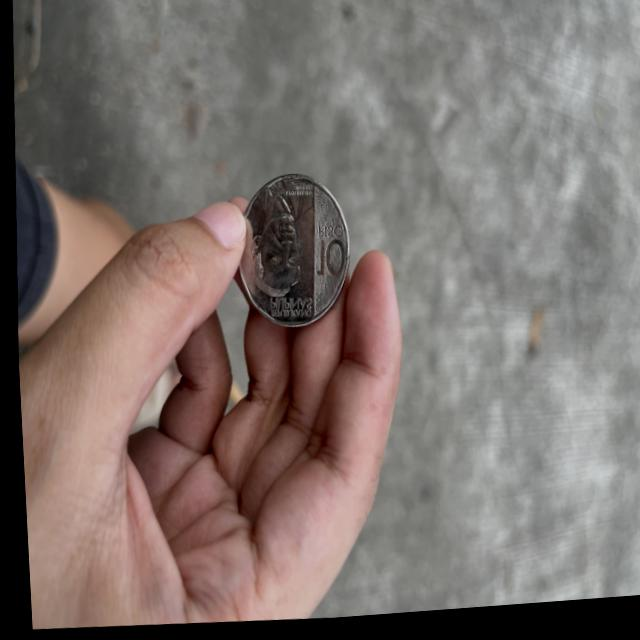10_New_Front: (304, 219, 351, 292)
